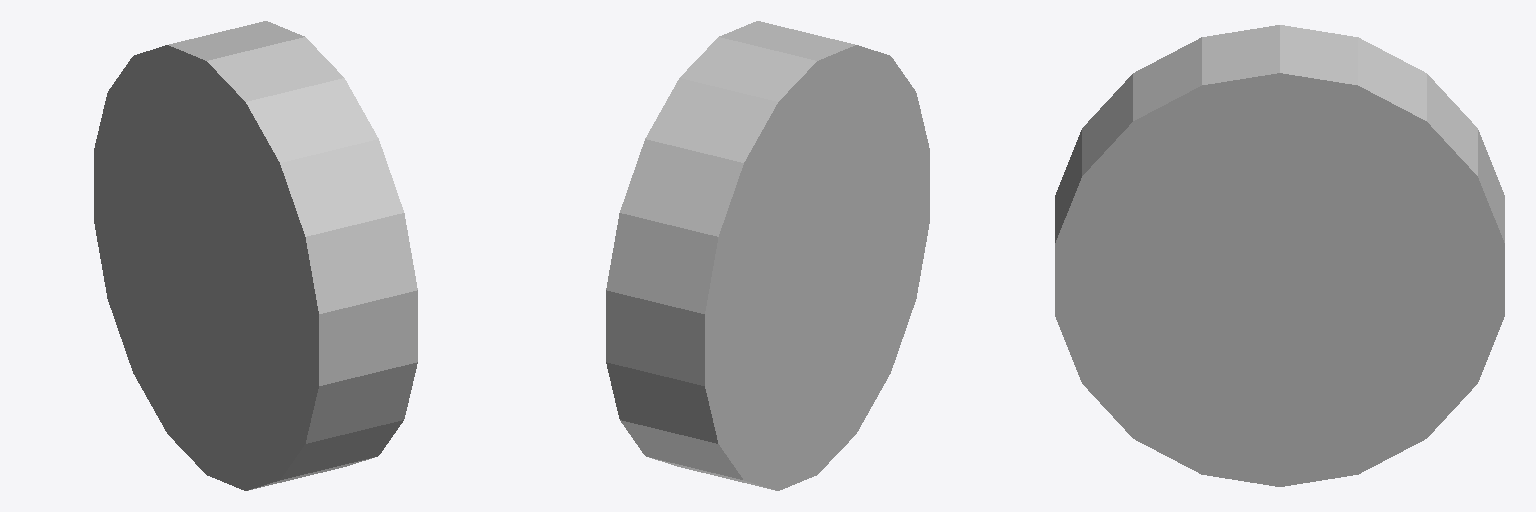
File: ReactionWheel.obj
3 renders of one model, left to right at view 1: azimuth 30°, elevation 25°; view 2: azimuth 150°, elevation 25°; view 3: azimuth 270°, elevation 25°, orthographic.
Visible parts, largest first — view 1: Body; view 2: Body; view 3: Body.
Part boxes in pixels (left/top/right/bottom): Body: left=94, top=21, right=417, bottom=490; Body: left=606, top=21, right=929, bottom=490; Body: left=1055, top=25, right=1504, bottom=486.
Size of the model in its own units: 25 by 100 by 98.48.